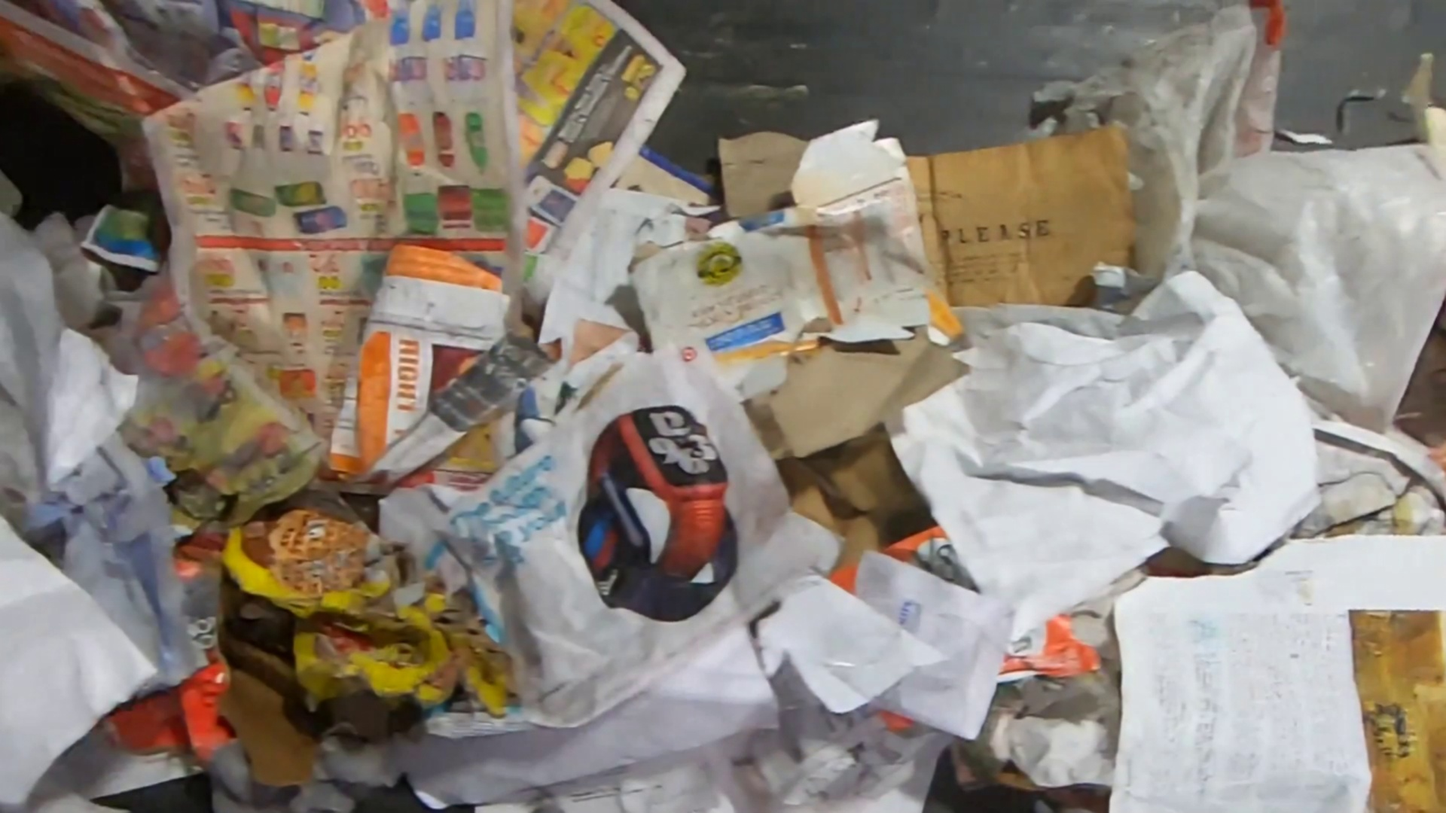cardboard: (219, 505, 515, 722), (92, 519, 325, 791), (628, 193, 918, 403), (901, 121, 1137, 308), (789, 117, 936, 344), (742, 327, 975, 463), (775, 424, 926, 569), (715, 129, 806, 219)
metal: (1273, 86, 1391, 148)
plastic: (1029, 0, 1446, 431)
